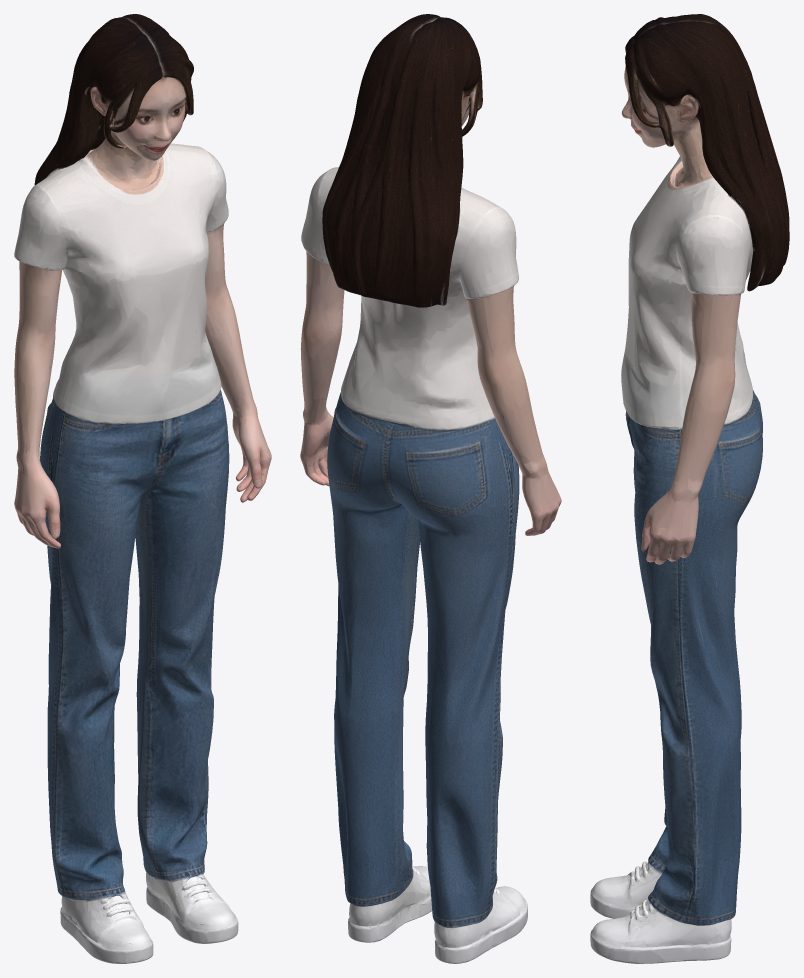
Rendered from person.glb.
3 views of the same model, side by side, from view 1: azimuth 30°, elevation 25°; view 2: azimuth 150°, elevation 25°; view 3: azimuth 270°, elevation 25° (orthographic).
Bounding box in the file's own units: 0.545 × 1.9 × 0.3766.
Materials: 1 (1 with a texture image).
